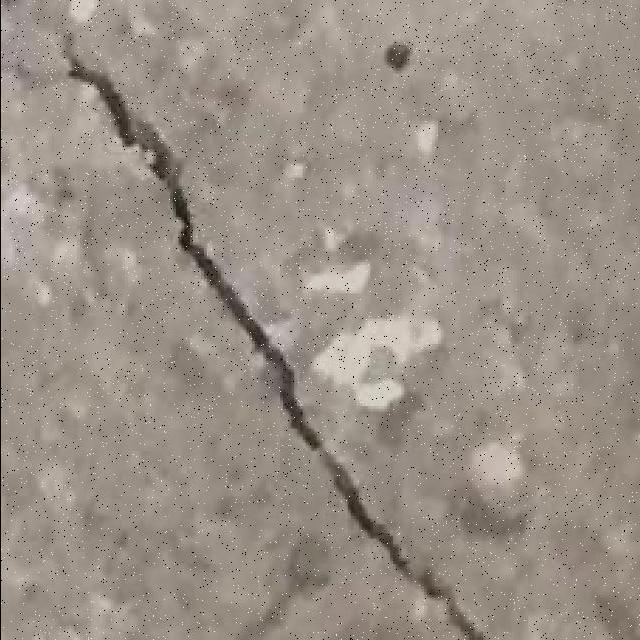Crack: (59, 23, 487, 638)
